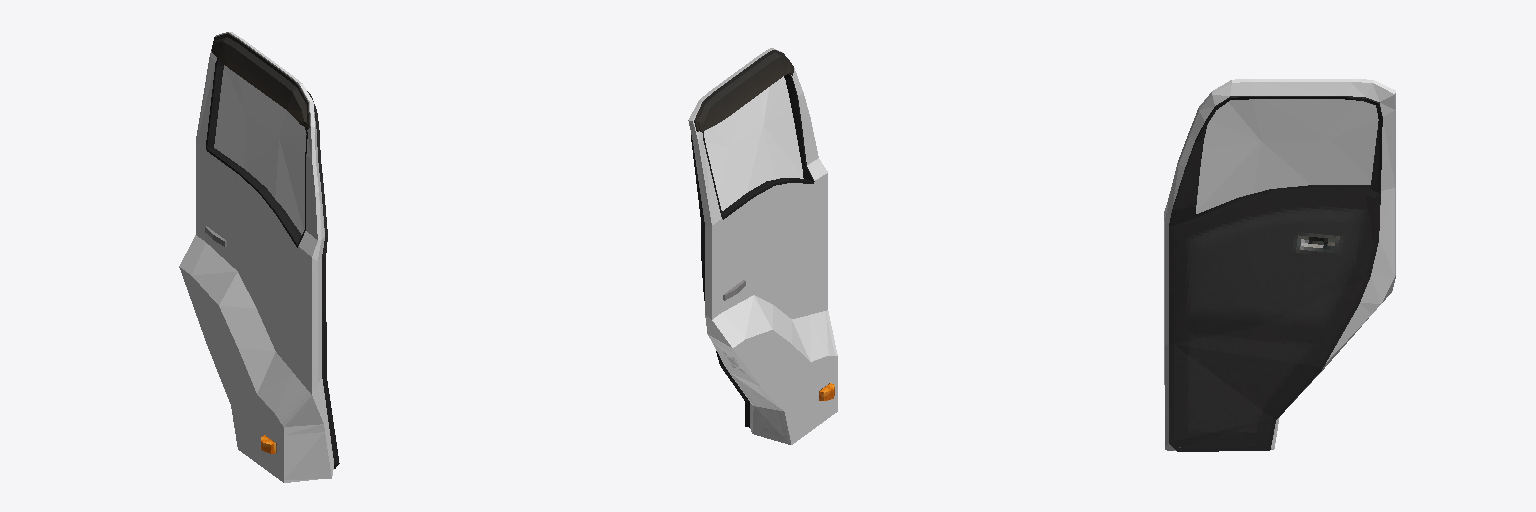
3 renders of one model, left to right at view 1: azimuth 30°, elevation 25°; view 2: azimuth 150°, elevation 25°; view 3: azimuth 270°, elevation 25°, orthographic.
Parts seen in each view (by area): view 1: door_FR_03; view 2: door_FR_03; view 3: door_FR_03.
Part boxes in pixels (bbox=[...]): door_FR_03: bbox=[179, 32, 339, 482]; door_FR_03: bbox=[688, 48, 837, 444]; door_FR_03: bbox=[1164, 79, 1395, 451].
Size of the model in its own units: 0.331 by 1.97 by 1.11.
6 materials, 1 textured.